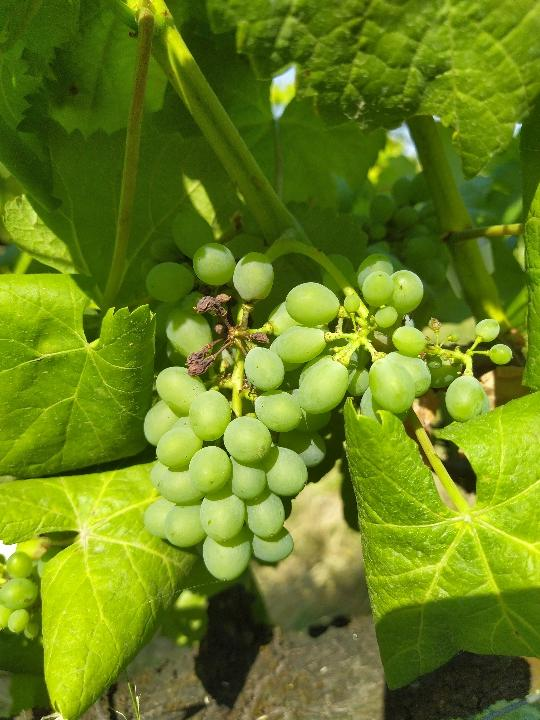grape: (136, 212, 517, 585)
